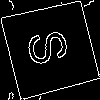S: (25, 24, 79, 69)
